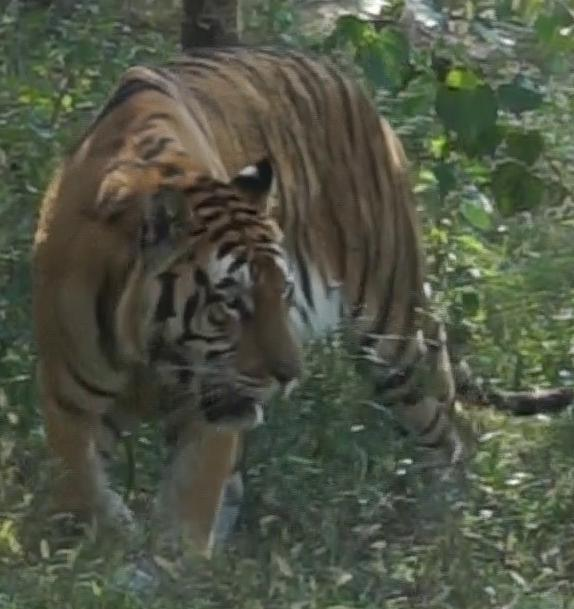tiger: (35, 42, 462, 549)
